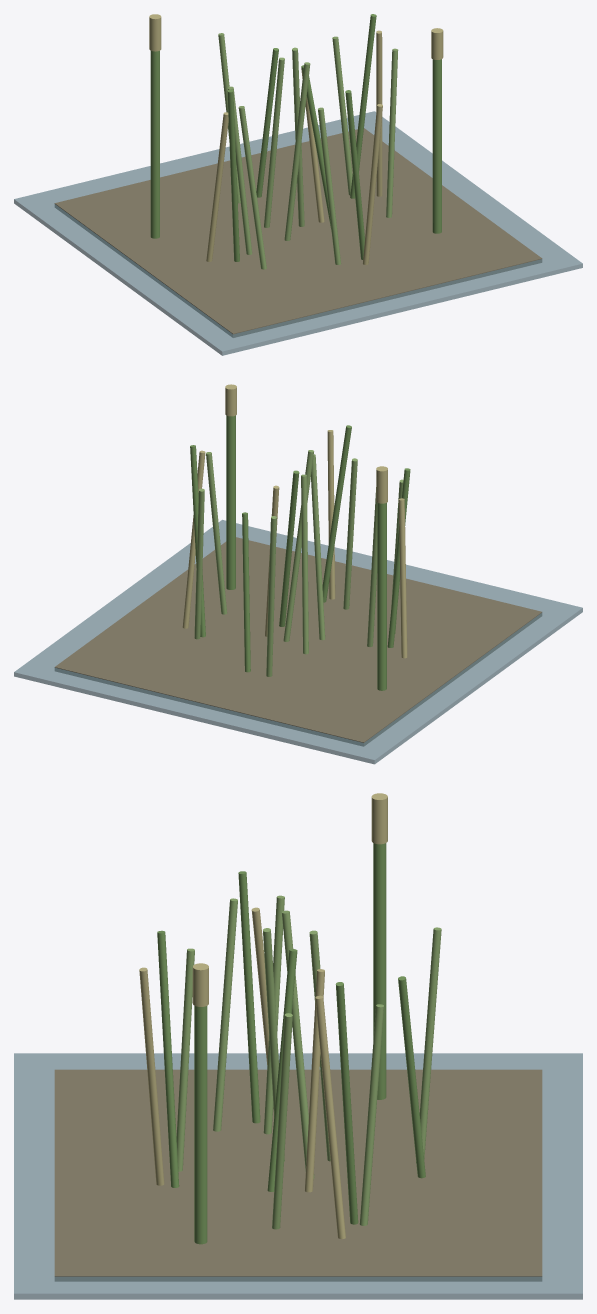
The model's file is marsh_grass.glb.
3 renders of one model, top to bottom at view 1: azimuth 30°, elevation 25°; view 2: azimuth 150°, elevation 25°; view 3: azimuth 270°, elevation 25°, orthographic. The views are drawn at different scales.
Parts seen in each view (by area): view 1: mud, water, cattail_1, cattail_2, r_3, r_6, r_5, r_13, r_7, r_14, r_16, r_10 (+11 smaller); view 2: mud, water, cattail_1, cattail_2, r_5, r_3, r_14, r_13, r_17, r_18, r_8, r_2 (+8 smaller); view 3: mud, water, cattail_2, cattail_1, r_14, r_6, r_12, r_10, r_7, r_11, r_16, r_13 (+12 smaller).
Part boxes in pixels (<box>): mud: <box>54,128,542,337</box>; water: <box>14,111,582,355</box>; cattail_1: <box>150,51,159,238</box>; cattail_2: <box>432,59,441,233</box>; r_3: <box>284,62,310,240</box>; r_6: <box>227,89,239,261</box>; r_5: <box>264,57,284,227</box>; r_13: <box>386,48,398,217</box>; r_7: <box>238,106,266,269</box>; r_14: <box>345,90,364,259</box>; r_16: <box>362,104,382,264</box>; r_10: <box>350,14,376,198</box>; mud: <box>54,537,542,746</box>; water: <box>14,519,582,764</box>; cattail_1: <box>377,503,386,690</box>; cattail_2: <box>226,415,235,589</box>; r_5: <box>301,474,308,654</box>; r_3: <box>311,454,325,640</box>; r_14: <box>322,425,351,602</box>; r_13: <box>206,452,227,614</box>; r_17: <box>266,516,276,676</box>; r_18: <box>242,512,250,672</box>; r_8: <box>398,498,407,658</box>; r_2: <box>279,470,299,626</box>; mud: <box>54,1069,542,1281</box>; water: <box>14,1053,582,1299</box>; cattail_2: <box>194,1006,207,1244</box>; cattail_1: <box>373,843,386,1099</box>; r_14: <box>157,930,179,1187</box>; r_6: <box>238,871,260,1123</box>; r_12: <box>315,995,345,1239</box>; r_10: <box>335,982,358,1224</box>; r_7: <box>213,898,237,1131</box>; r_11: <box>359,1004,383,1225</box>; r_16: <box>139,967,164,1185</box>; r_13: <box>272,1013,292,1229</box>.
Size of the model in its own units: 3.5 by 2.1 by 3.5.
